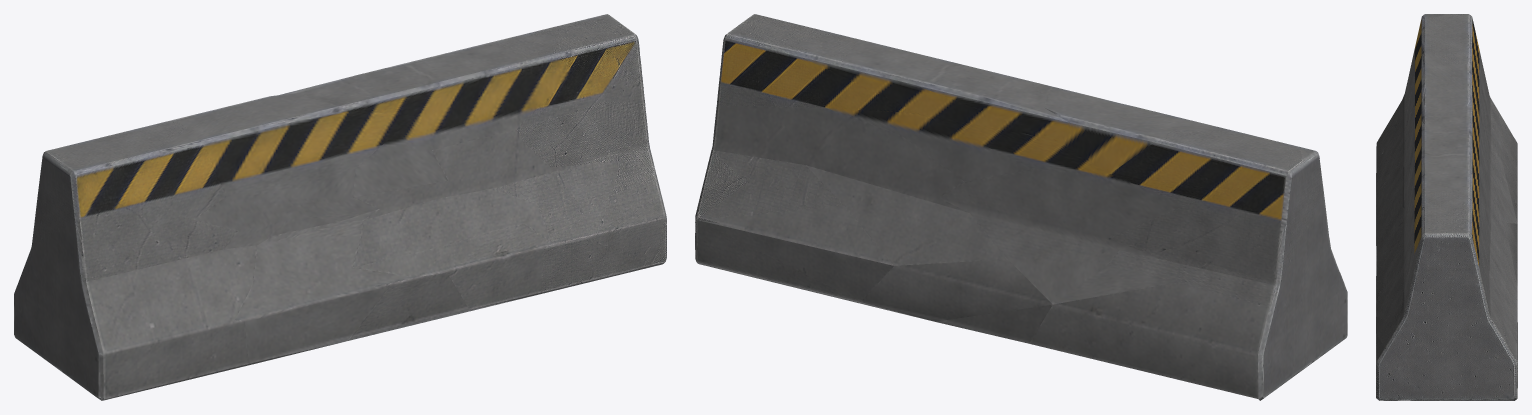
Rendered from concrete_barrier.glb.
3 renders of one model, left to right at view 1: azimuth 30°, elevation 25°; view 2: azimuth 150°, elevation 25°; view 3: azimuth 270°, elevation 25°, orthographic. The views are drawn at different scales.
Parts seen in each view (by area): view 1: output_unwrapped; view 2: output_unwrapped; view 3: output_unwrapped.
Part boxes in pixels (x1,y1,x2,y2): output_unwrapped: [14, 14, 666, 400]; output_unwrapped: [695, 14, 1347, 400]; output_unwrapped: [1376, 14, 1517, 400].
Bounding box in the file's own units: 2 × 0.7039 × 0.5394.
1 material, 1 textured.
